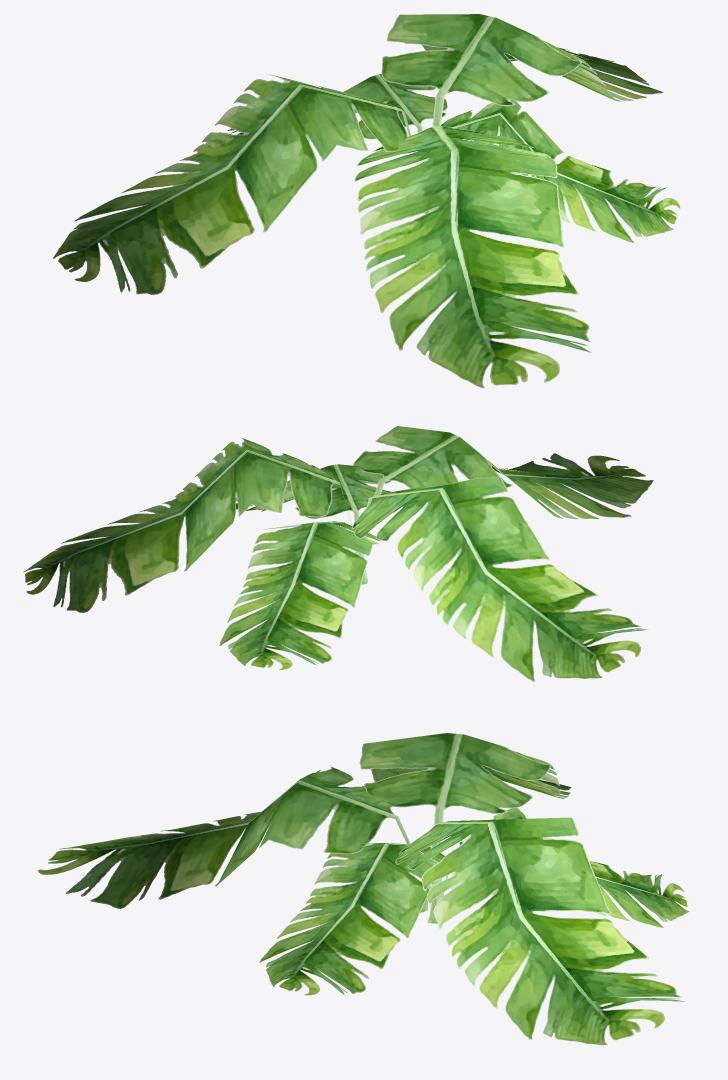
Rendered from plante.fbx.
3 views of the same model, one above another, from view 1: azimuth 30°, elevation 25°; view 2: azimuth 150°, elevation 25°; view 3: azimuth 270°, elevation 25° (orthographic). The views are drawn at different scales.
Parts seen in each view (by area): view 1: pPlane22; view 2: pPlane22; view 3: pPlane22.
Boxes of the visible parts, <box> form: pPlane22: <box>53,14,680,388</box>; pPlane22: <box>23,426,653,681</box>; pPlane22: <box>37,733,689,1045</box>.
Bounding box in the file's own units: 628 × 134 × 591.
Materials: 1 (1 with a texture image).
